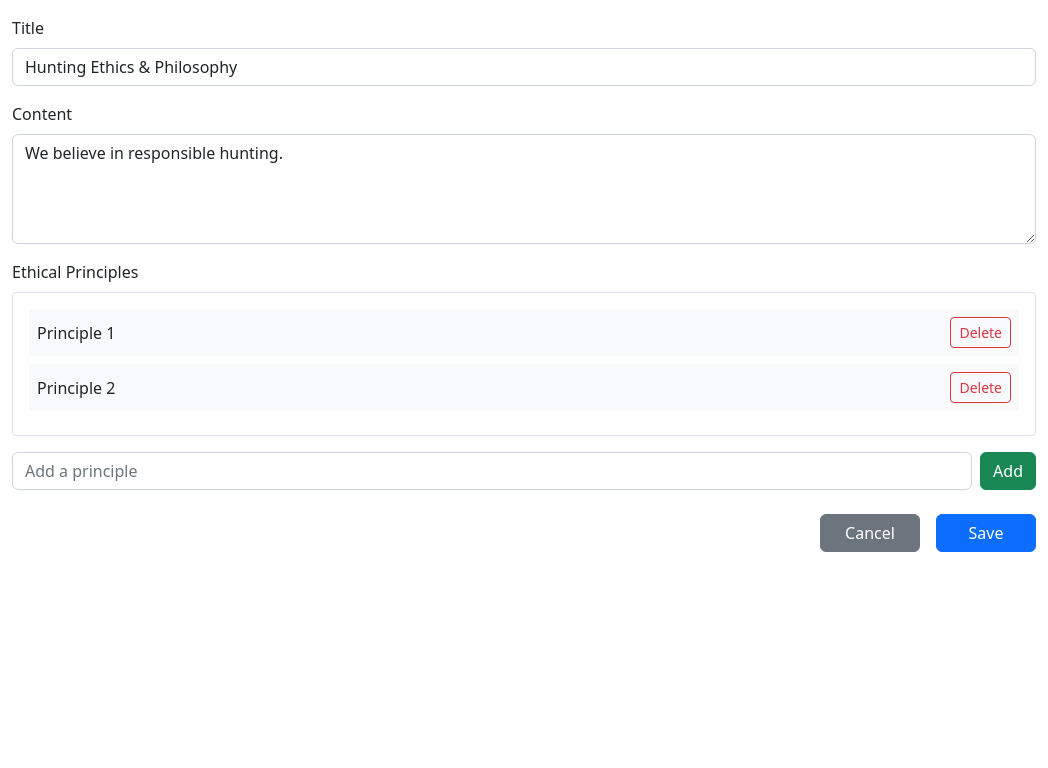
Test: EthicsForm › should add new principle when add button clicked
Type "Principle 3" into the field with placeholder "Add a principle" at (492,471), box left=12, top=452, right=972, bottom=490
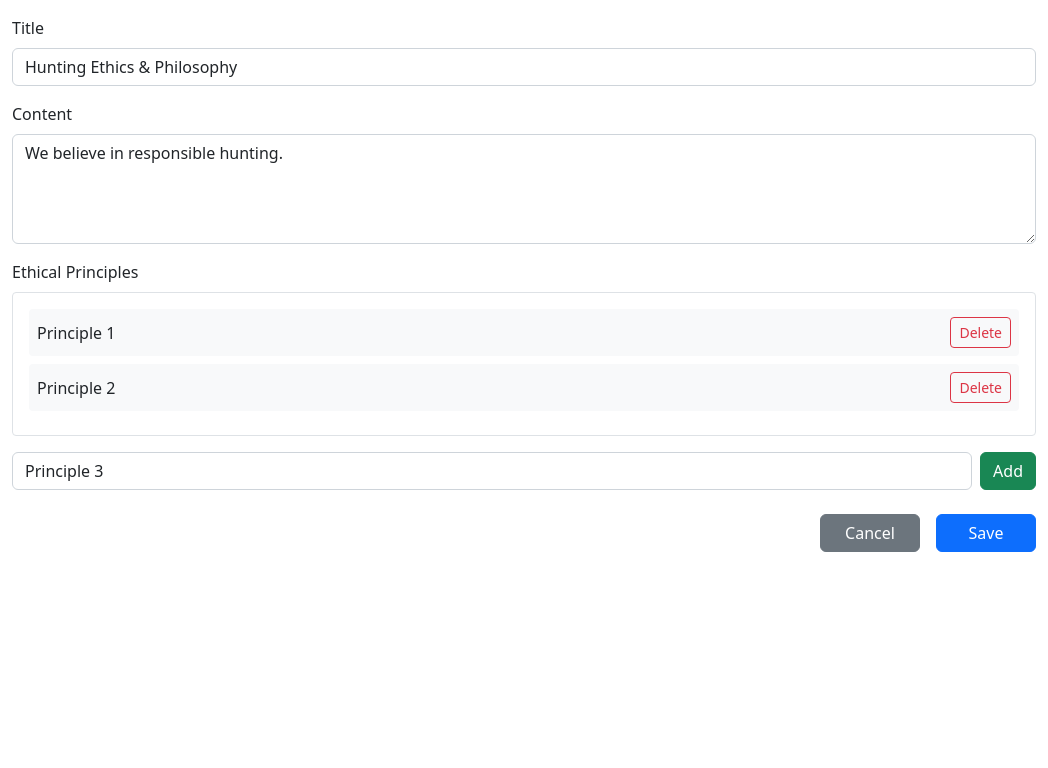
Click the button "Add" at (1008,471), box left=980, top=452, right=1036, bottom=490
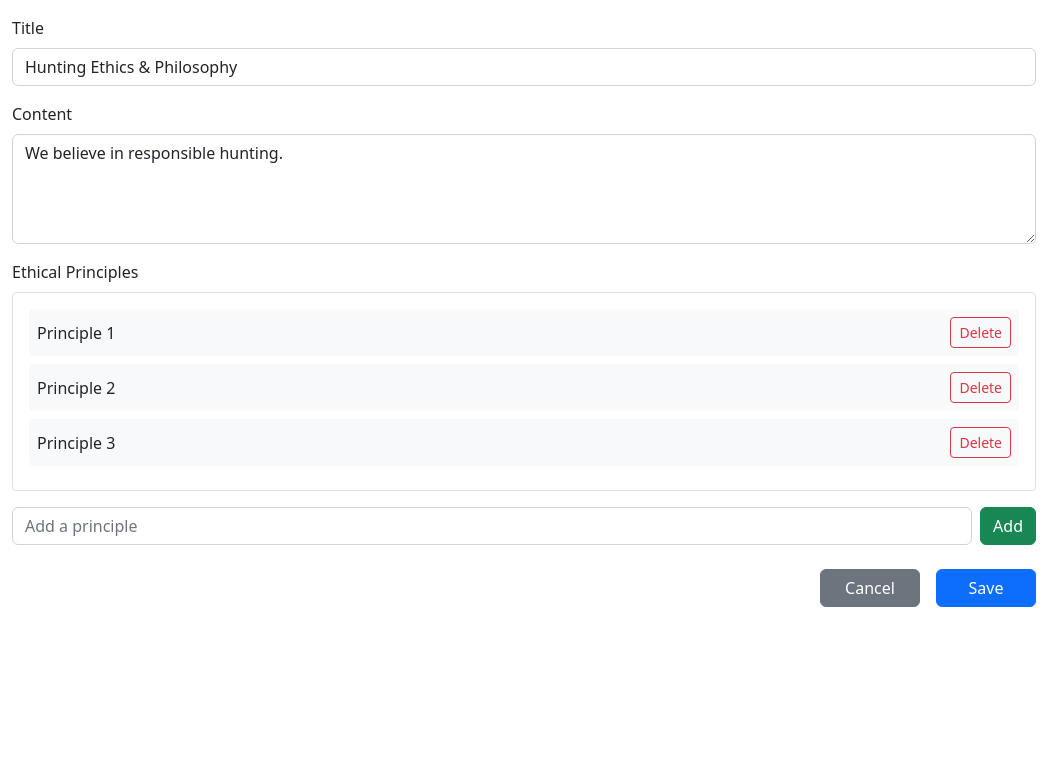
Check: the text "Principle 3" is shown, box left=37, top=432, right=115, bottom=454
